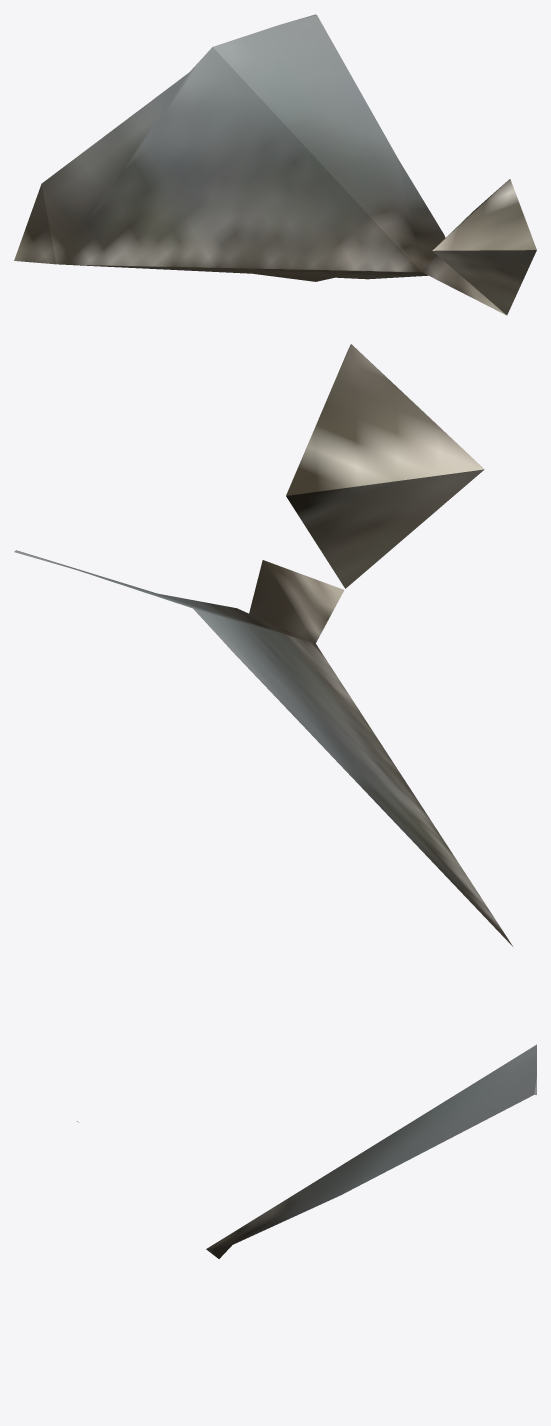
3 views of the same model, one above another, from view 1: azimuth 30°, elevation 25°; view 2: azimuth 150°, elevation 25°; view 3: azimuth 270°, elevation 25° (orthographic). The views are drawn at different scales.
Bounding box in the file's own units: 0.0669 × 0.0568 × 0.0849.
Materials: 1 (1 with a texture image).
